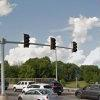Traffic light: (20, 25, 81, 62)
